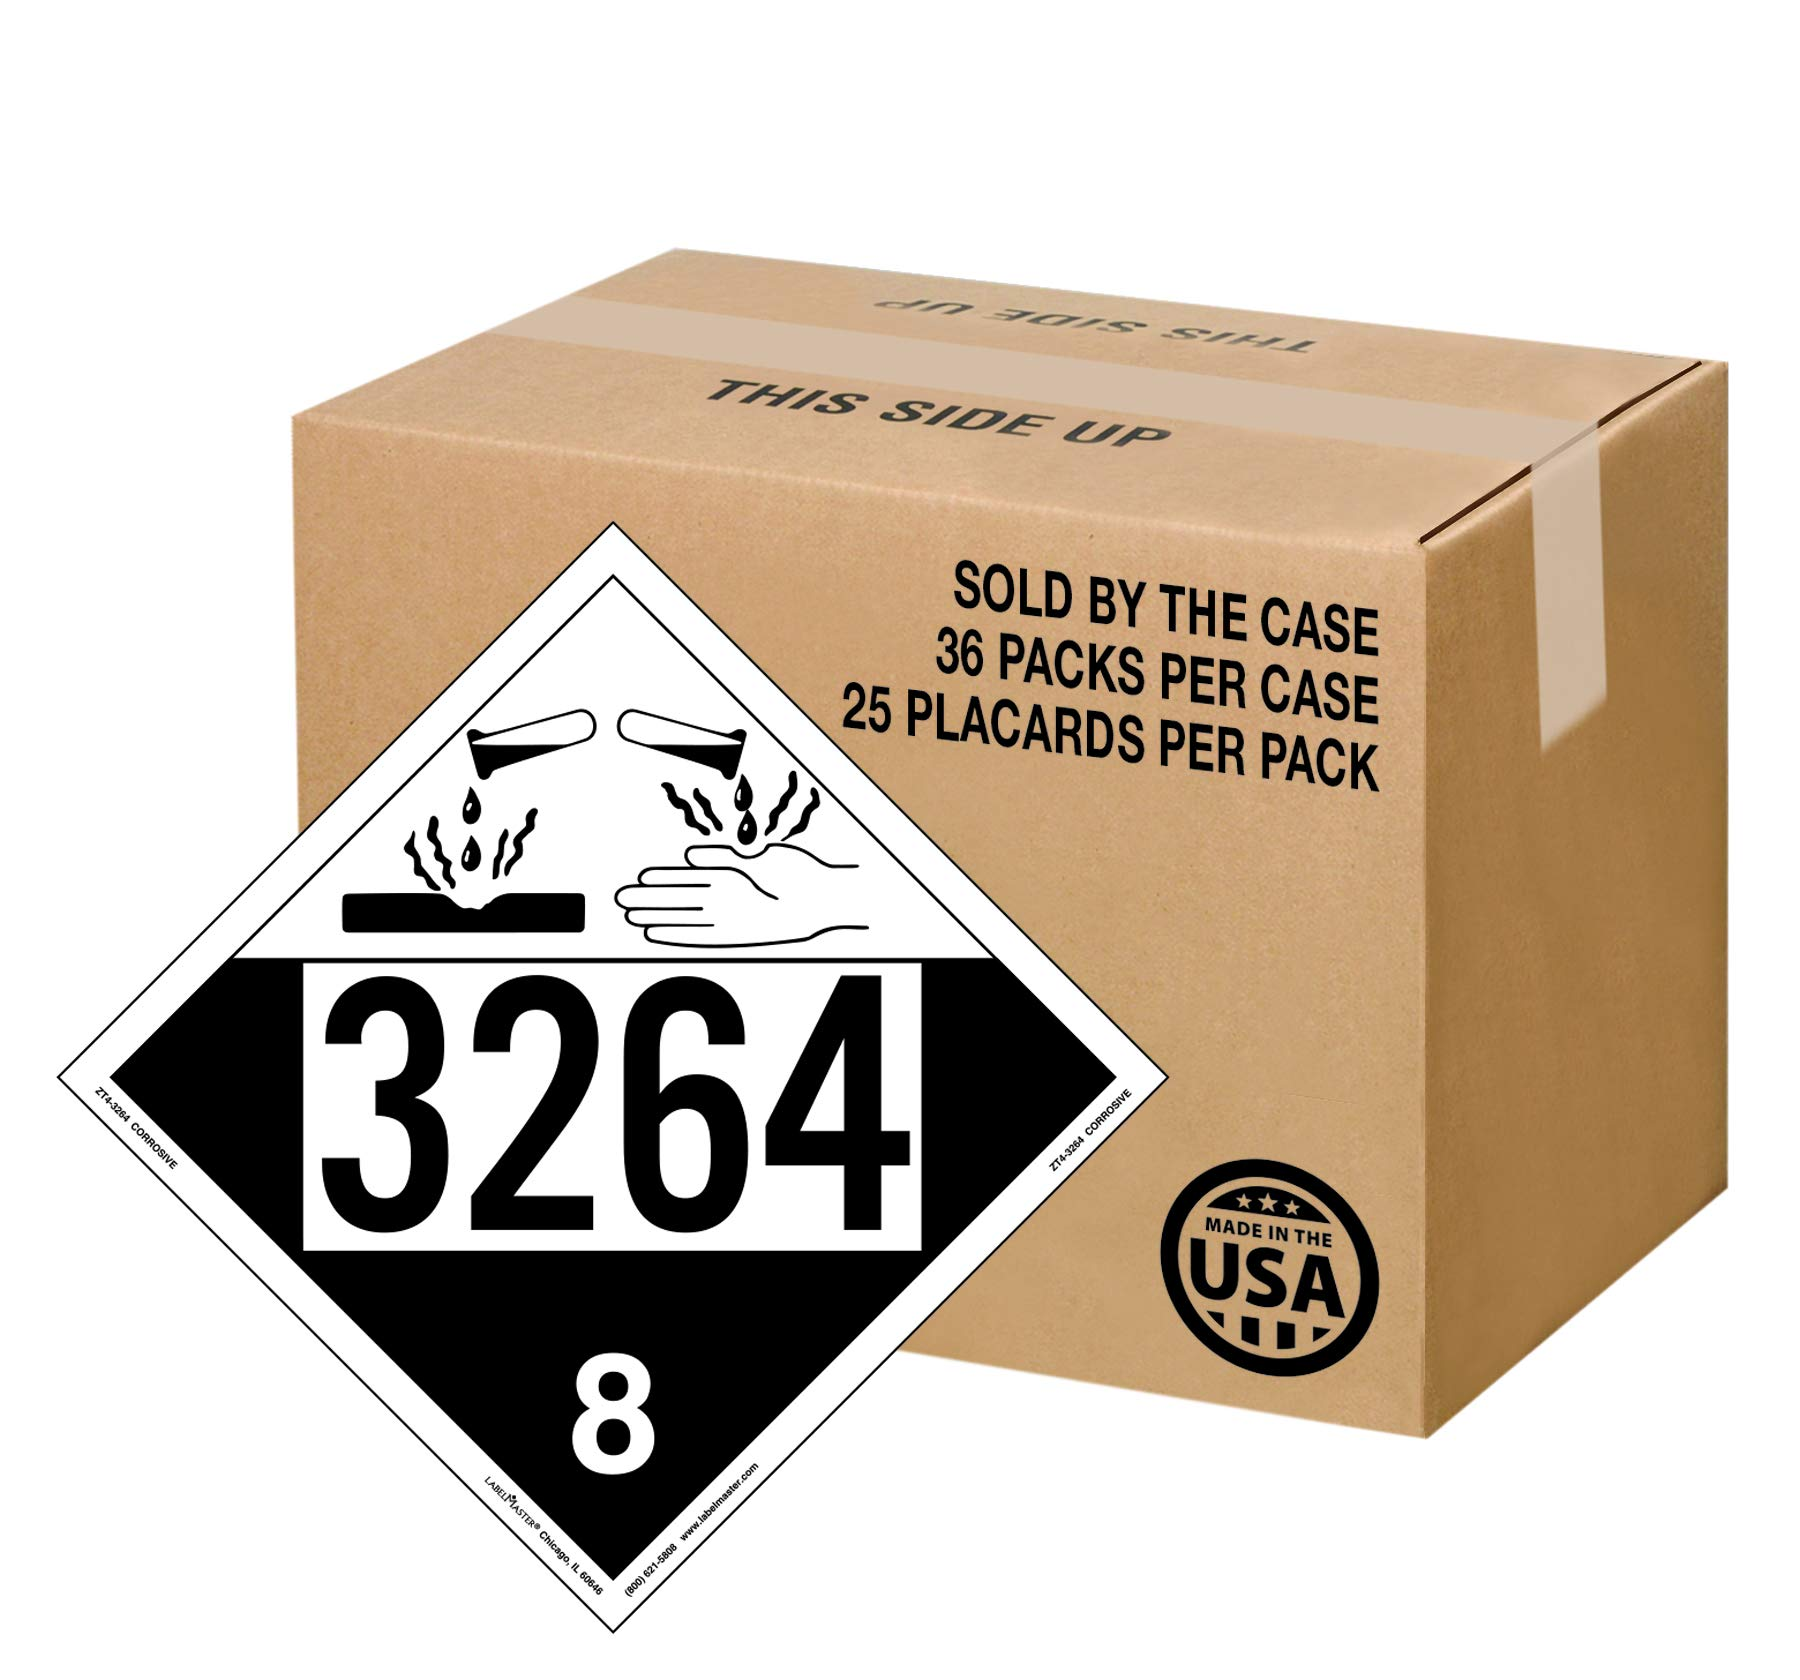Corrosive: (54, 523, 1172, 1636)
